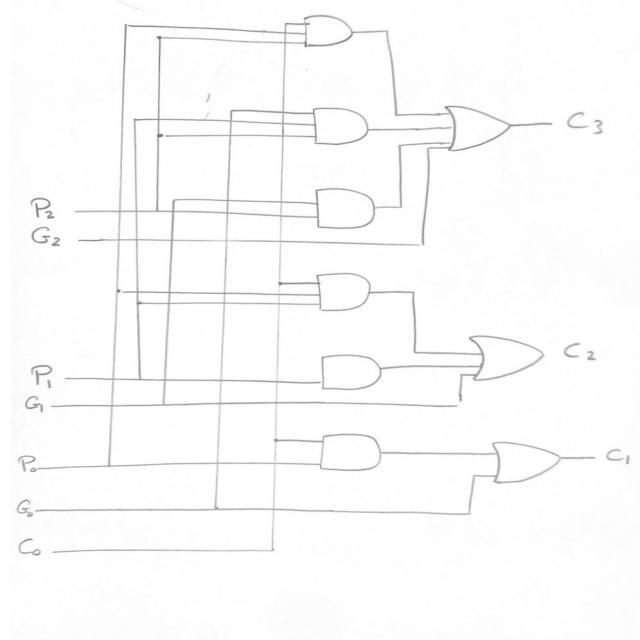AND: (299, 182, 388, 244), (304, 428, 402, 483), (300, 100, 386, 158), (300, 268, 382, 323), (304, 348, 393, 396), (296, 10, 363, 52)
OR: (456, 330, 558, 392), (439, 97, 524, 165), (480, 439, 572, 491)
